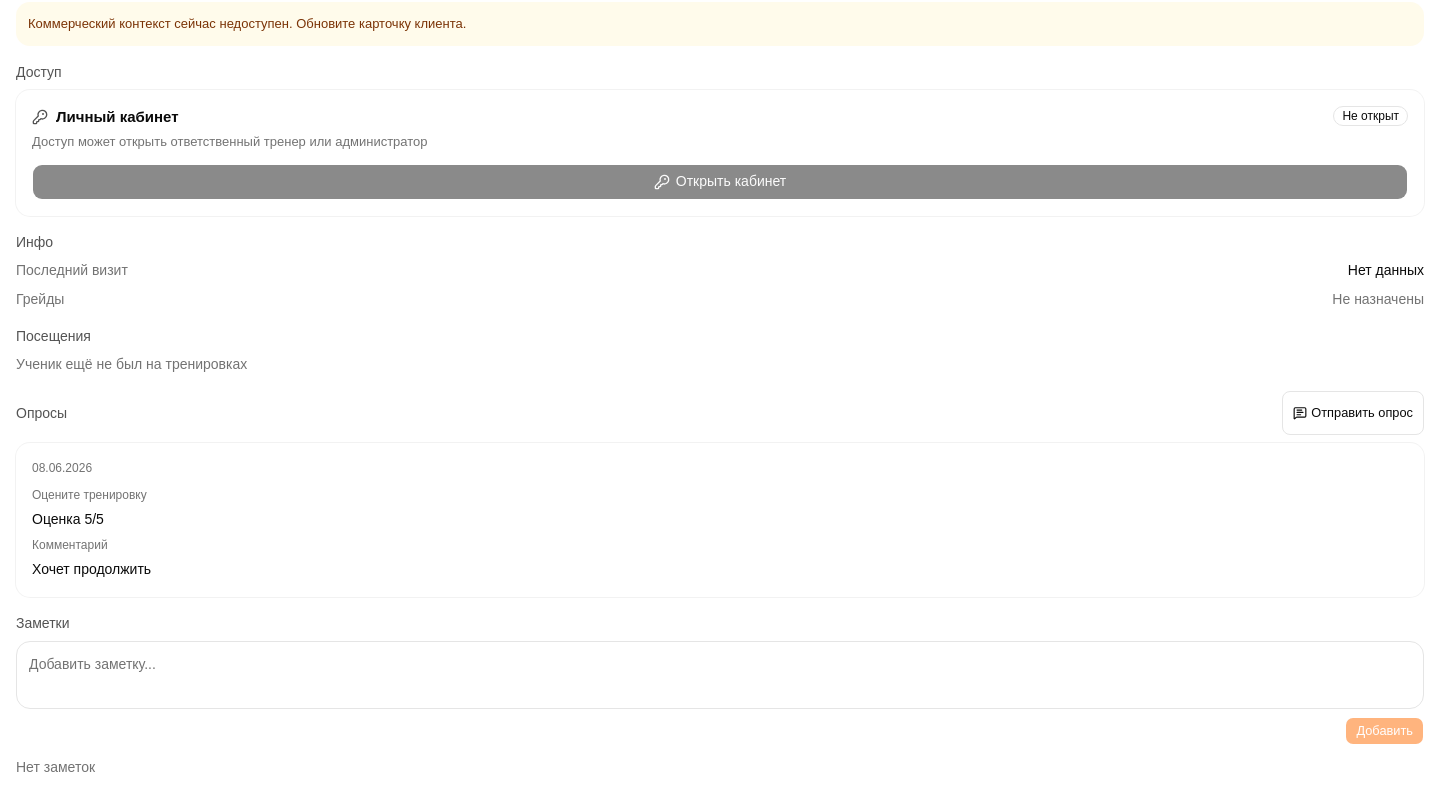
it: StudentDetail feedback block › shows prior feedback responses and sends a survey
This screenshot has width=1440, height=803.
(page scrolled)
Expected: the heading "Опросы" is shown, [16,402,67,422]
Expected: the text "Оцените тренировку" is shown, [32,488,147,502]
Click the button "Отправить опрос" at (1353, 412), box [1282,390,1424,434]
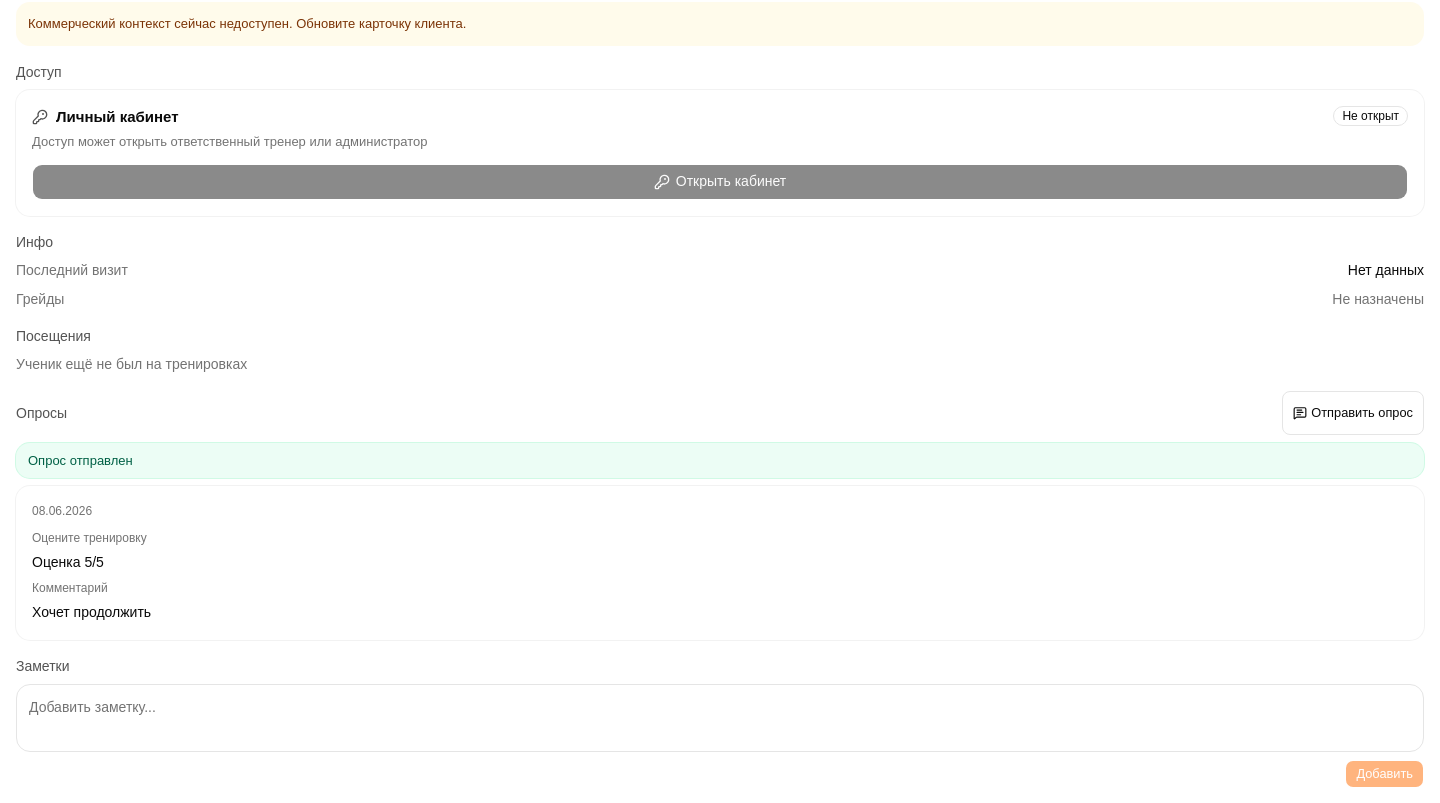
Expected: the text "Опрос отправлен" is shown, [16,442,1424,478]
